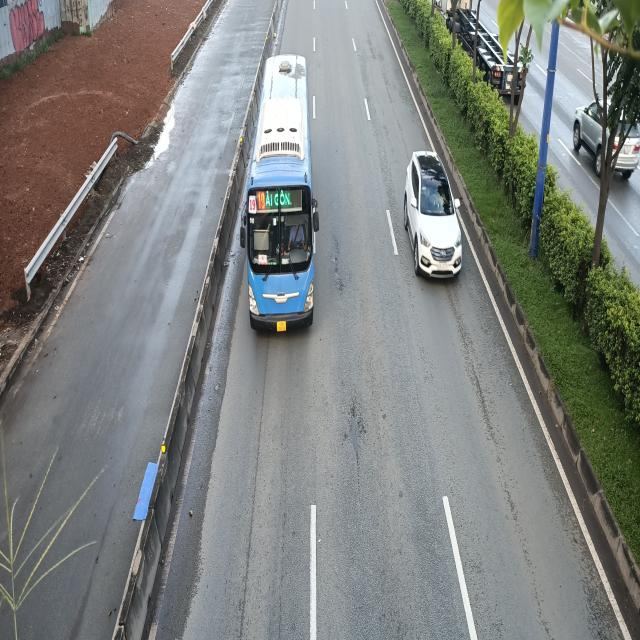car: (404, 151, 463, 278)
coach: (242, 55, 322, 337)
